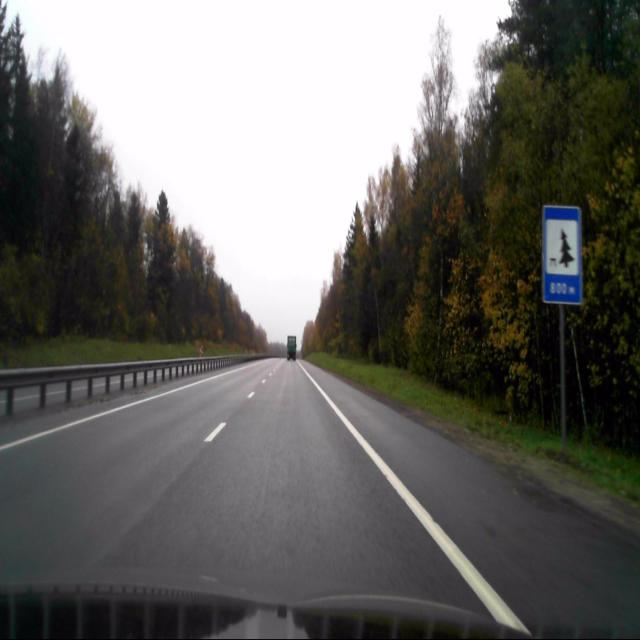object: (559, 305, 566, 460)
road sign: (542, 205, 581, 304)
